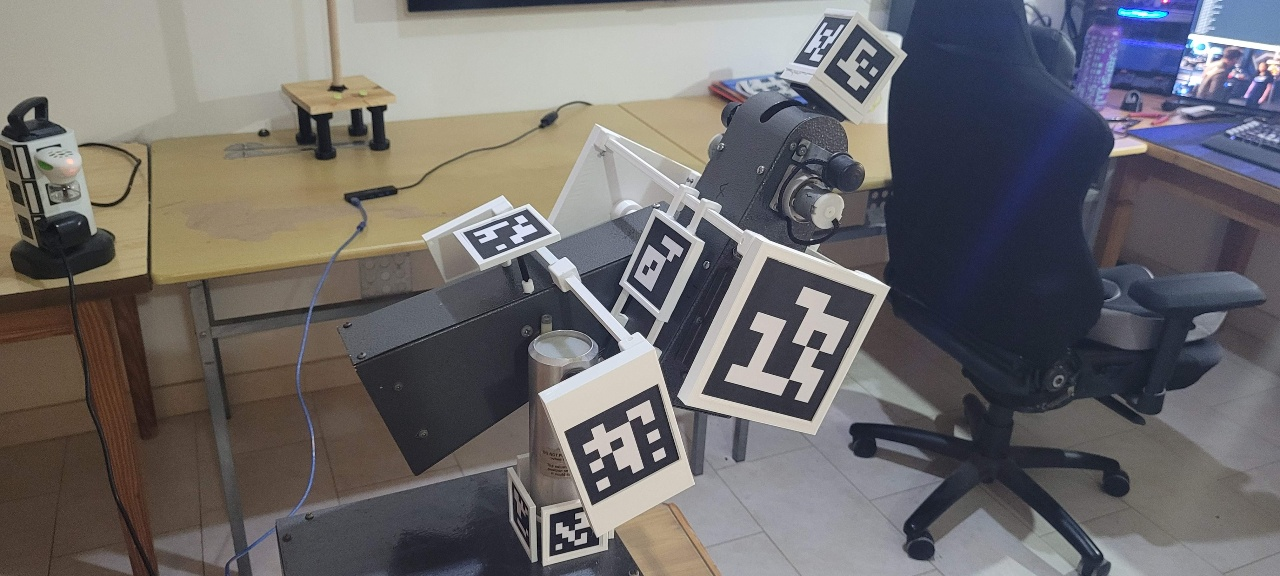Robot: (274, 15, 838, 576)
